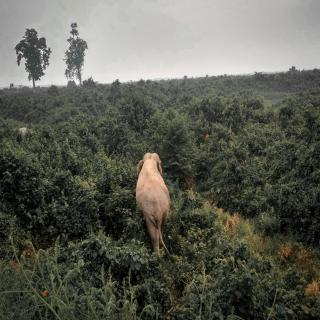Elephant: (134, 148, 177, 262)
